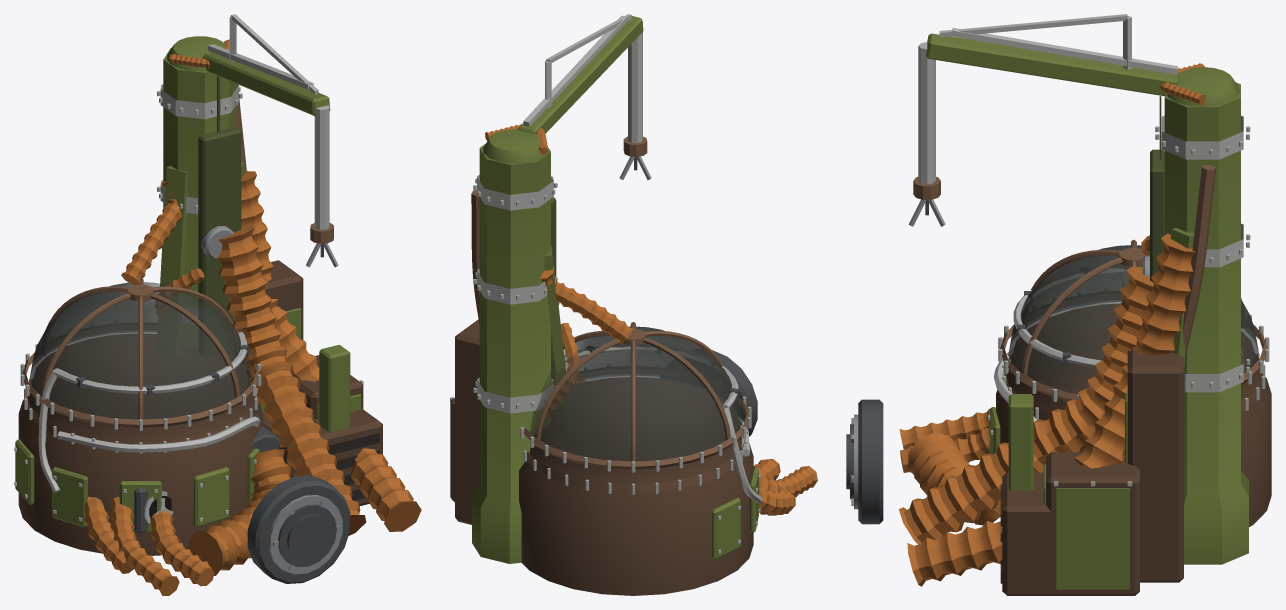
The model's file is agricultural-tower.glb.
3 views of the same model, side by side, from view 1: azimuth 30°, elevation 25°; view 2: azimuth 150°, elevation 25°; view 3: azimuth 270°, elevation 25° (orthographic). The views are drawn at different scales.
Visible parts, largest first — view 1: body, anim_spin_crane; view 2: body, anim_spin_crane; view 3: body, anim_spin_crane.
Part boxes in pixels (x1=…): body: x1=14, y1=48, x2=421, y2=595; anim_spin_crane: x1=167, y1=14, x2=338, y2=267; body: x1=450, y1=143, x2=817, y2=595; anim_spin_crane: x1=483, y1=14, x2=651, y2=179; body: x1=846, y1=82, x2=1271, y2=595; anim_spin_crane: x1=908, y1=14, x2=1239, y2=226.
Size of the model in its own units: 3.11 by 4.68 by 3.4.
